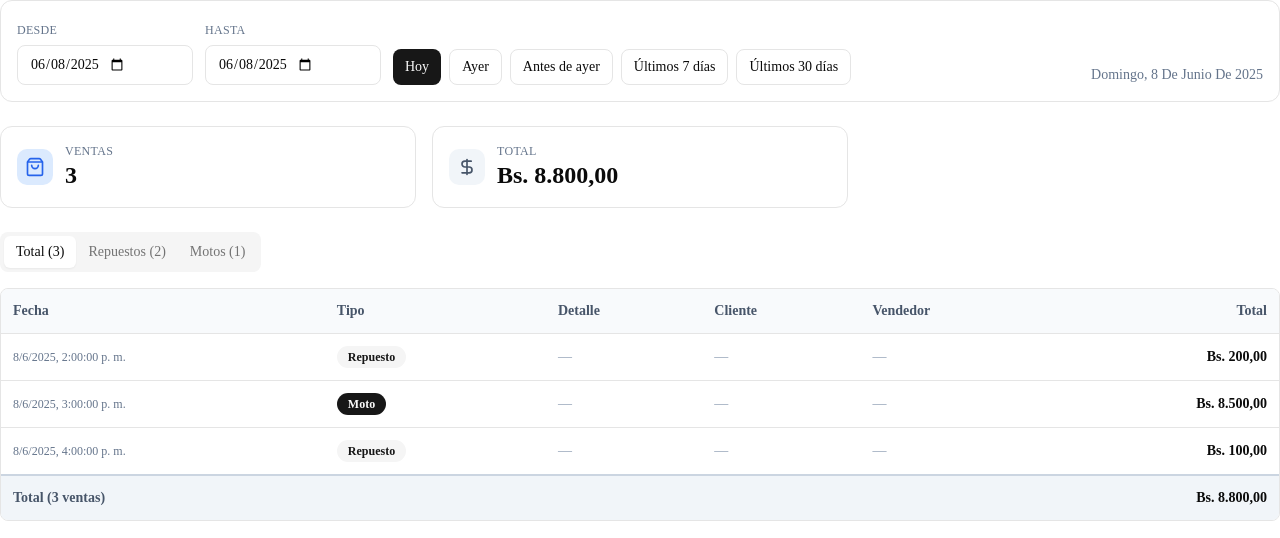
Test: HistorialClient — filtro por fecha › filtra ventas al cambiar de fecha
Click the button "Ayer".
click(475, 67)  # box [449, 49, 502, 85]
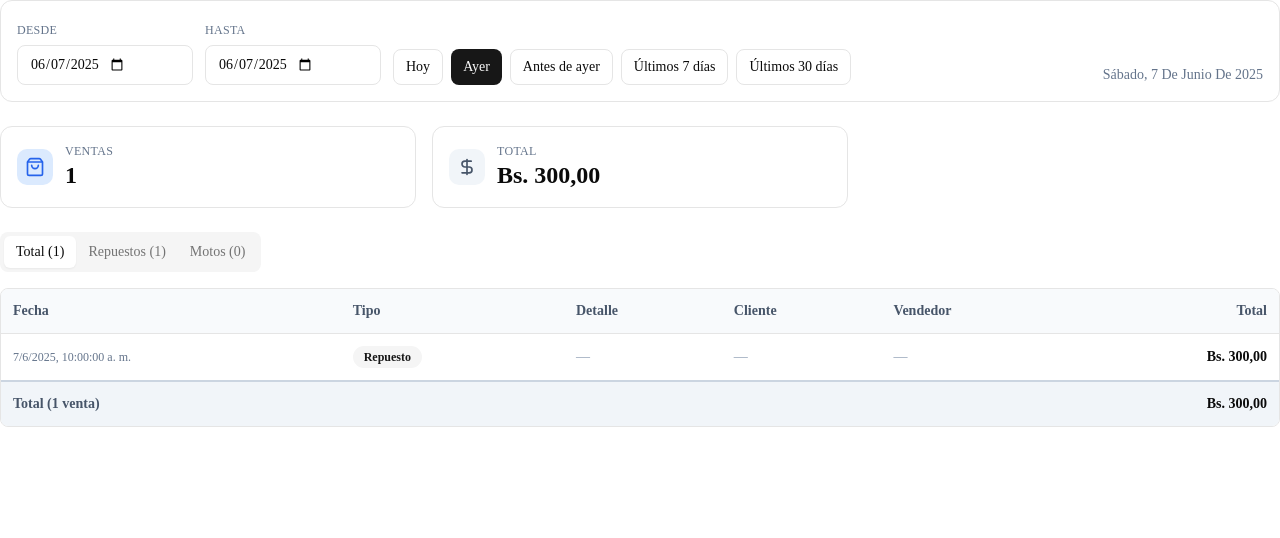
Check: the tab "Total (1)" is shown, box [4, 236, 76, 268]
